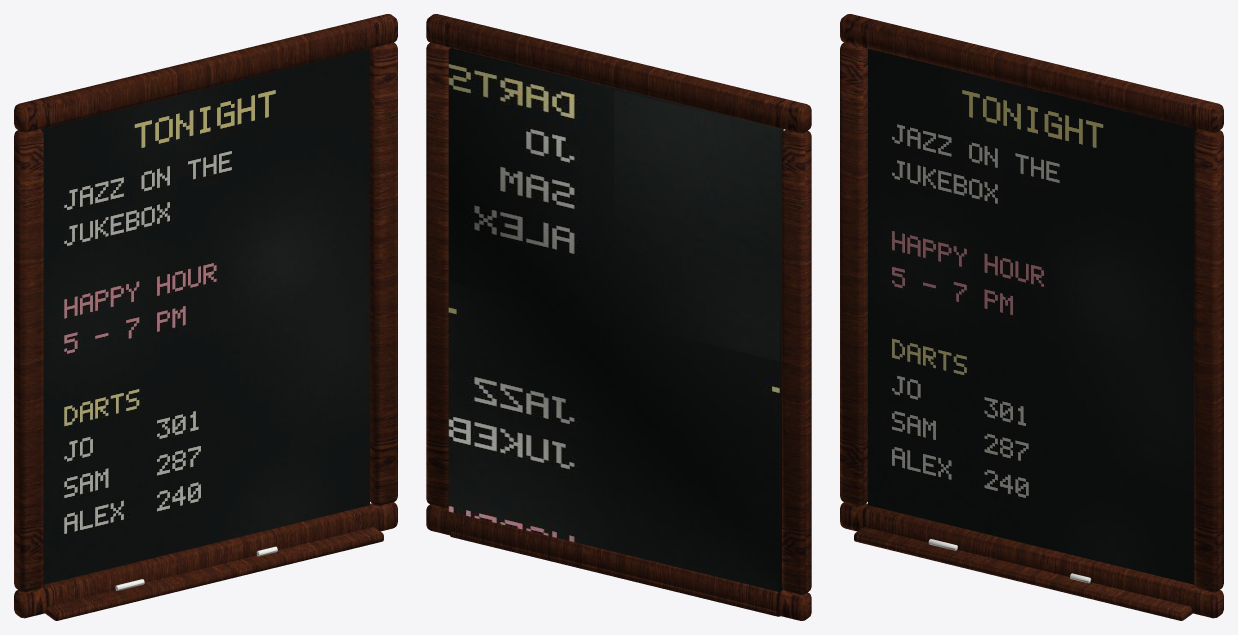
File: chalkboard.glb
3 views of the same model, side by side, from view 1: azimuth 30°, elevation 25°; view 2: azimuth 150°, elevation 25°; view 3: azimuth 330°, elevation 25° (orthographic).
Parts seen in each view (by area): view 1: Chalkboard, Frame wood; view 2: Chalkboard, Frame wood; view 3: Chalkboard, Frame wood.
Part boxes in pixels (x1,y1,x2,y2): Chalkboard: (40,48,369,584); Frame wood: (14,14,397,620); Chalkboard: (448,48,783,591); Frame wood: (426,14,811,620); Chalkboard: (868,48,1197,584); Frame wood: (840,14,1223,620).
Size of the model in its own units: 0.69 by 0.89 by 0.06.
Materials: 3 (2 with a texture image).
